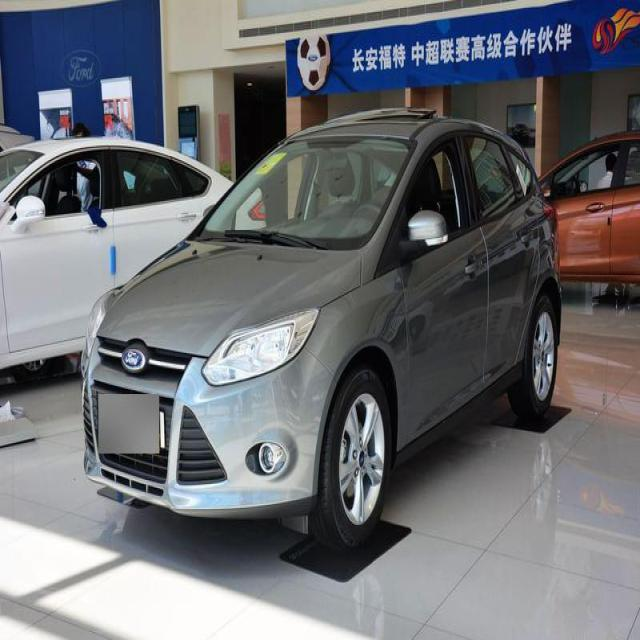back_left_side_light: (535, 189, 559, 250)
door: (466, 134, 532, 366)
front_bumper: (74, 341, 344, 526)
front_glass: (195, 123, 418, 263)
front_left_side_door: (362, 111, 491, 466)
front_left_side_light: (198, 299, 324, 397)
front_left_side_mirror: (392, 201, 451, 282)
front_right_side_light: (78, 291, 116, 398)
wheel: (312, 352, 402, 571), (509, 278, 570, 436)
